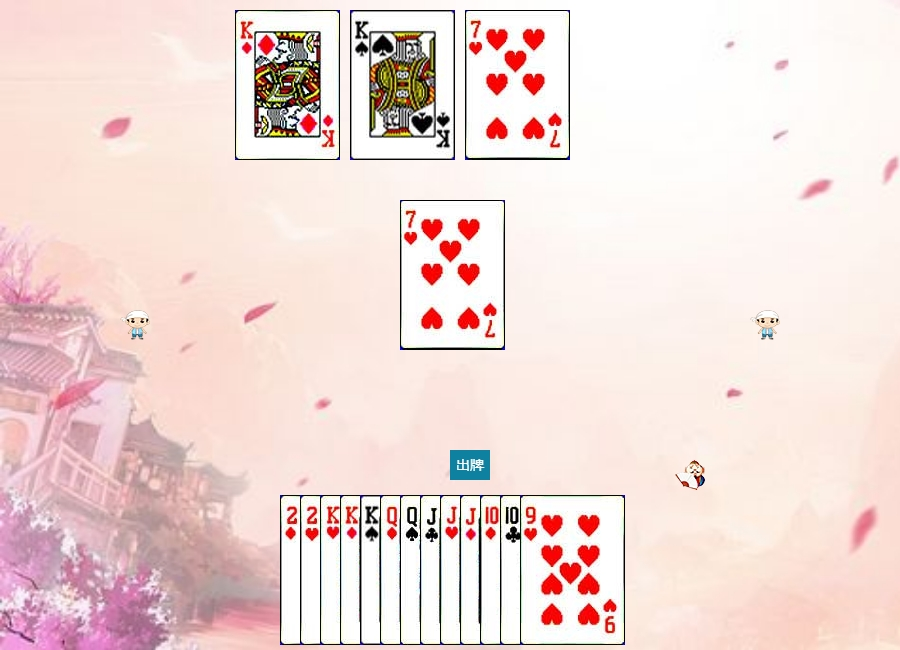10~1: (480, 495, 585, 645)
10~2: (500, 495, 605, 645)
11~1: (460, 495, 565, 645)
11~2: (420, 495, 525, 645)
11~3: (440, 495, 545, 645)
12~1: (380, 495, 485, 645)
12~4: (400, 495, 505, 645)
13~1: (235, 10, 340, 160), (340, 495, 445, 645)
13~3: (320, 495, 425, 645)
13~4: (350, 10, 455, 160), (360, 495, 465, 645)
15~1: (280, 495, 385, 645)
15~3: (300, 495, 405, 645)
7~3: (465, 10, 570, 160), (400, 200, 505, 350)
9~3: (520, 495, 625, 645)
